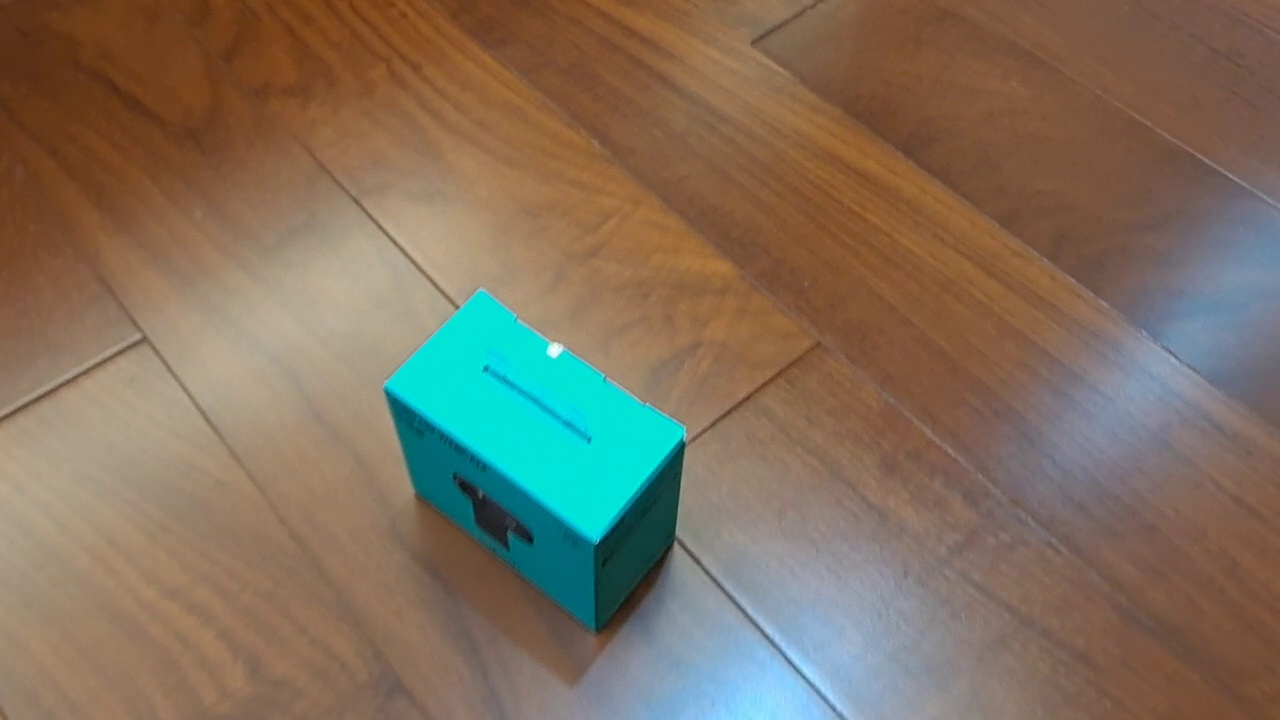webcam: (383, 286, 688, 636)
